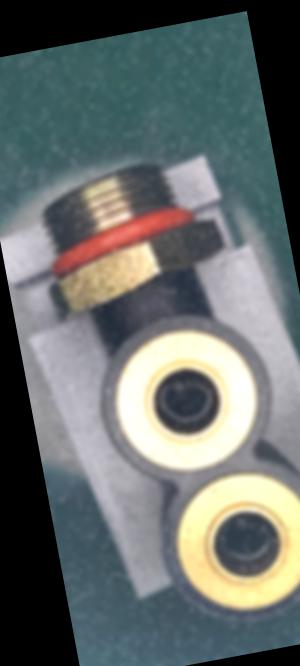off-centered: (210, 504, 286, 566), (151, 370, 226, 428)
